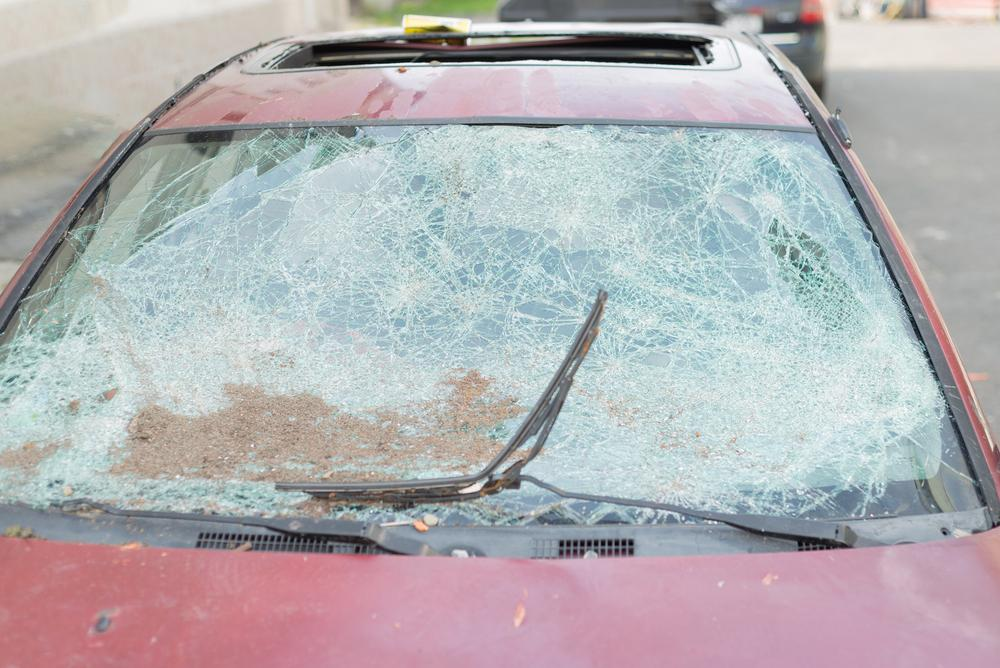glass shatter: (0, 124, 985, 525)
